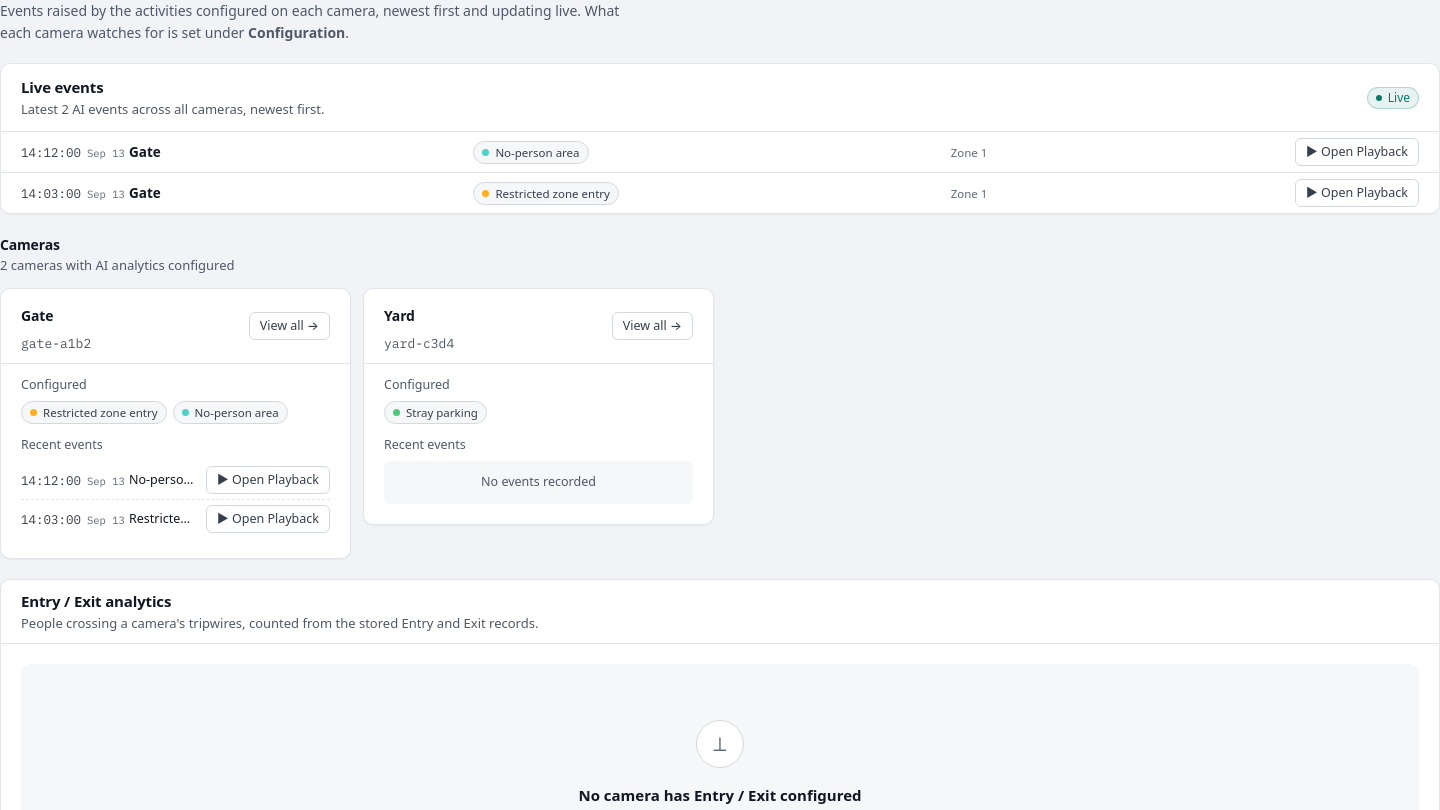
Scenario: EventsTab › refuses a range that ends before it starts without asking the API
This screenshot has width=1440, height=810.
Click the button "View all →" next to "gate-a1b2" at (289, 326), box [249,312,330,340]
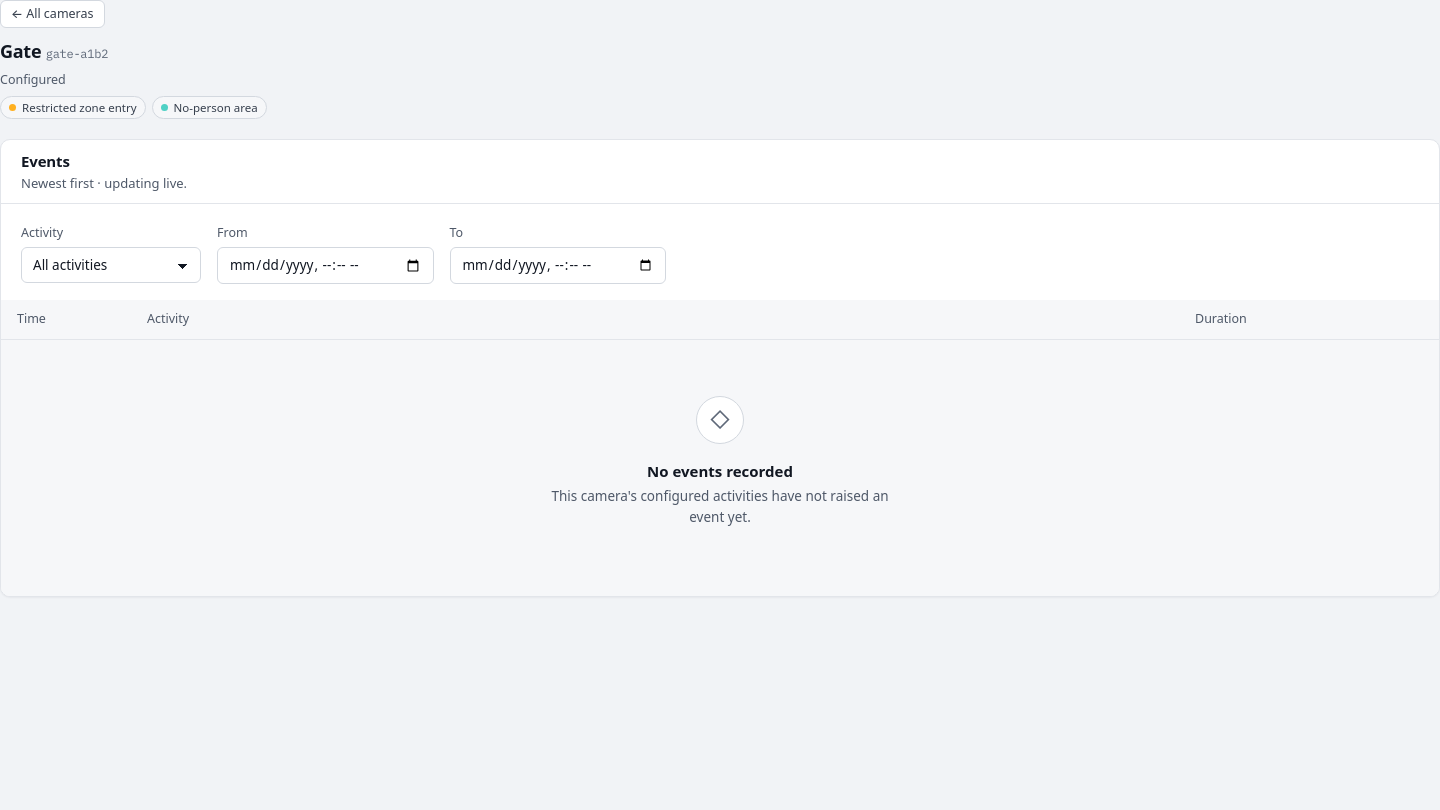
Expected: the heading "No events recorded" is shown, [647,460,793,482]
Type "2026-09-13T08:00" into the field named "To" at (558, 266), box [450,247,666,284]
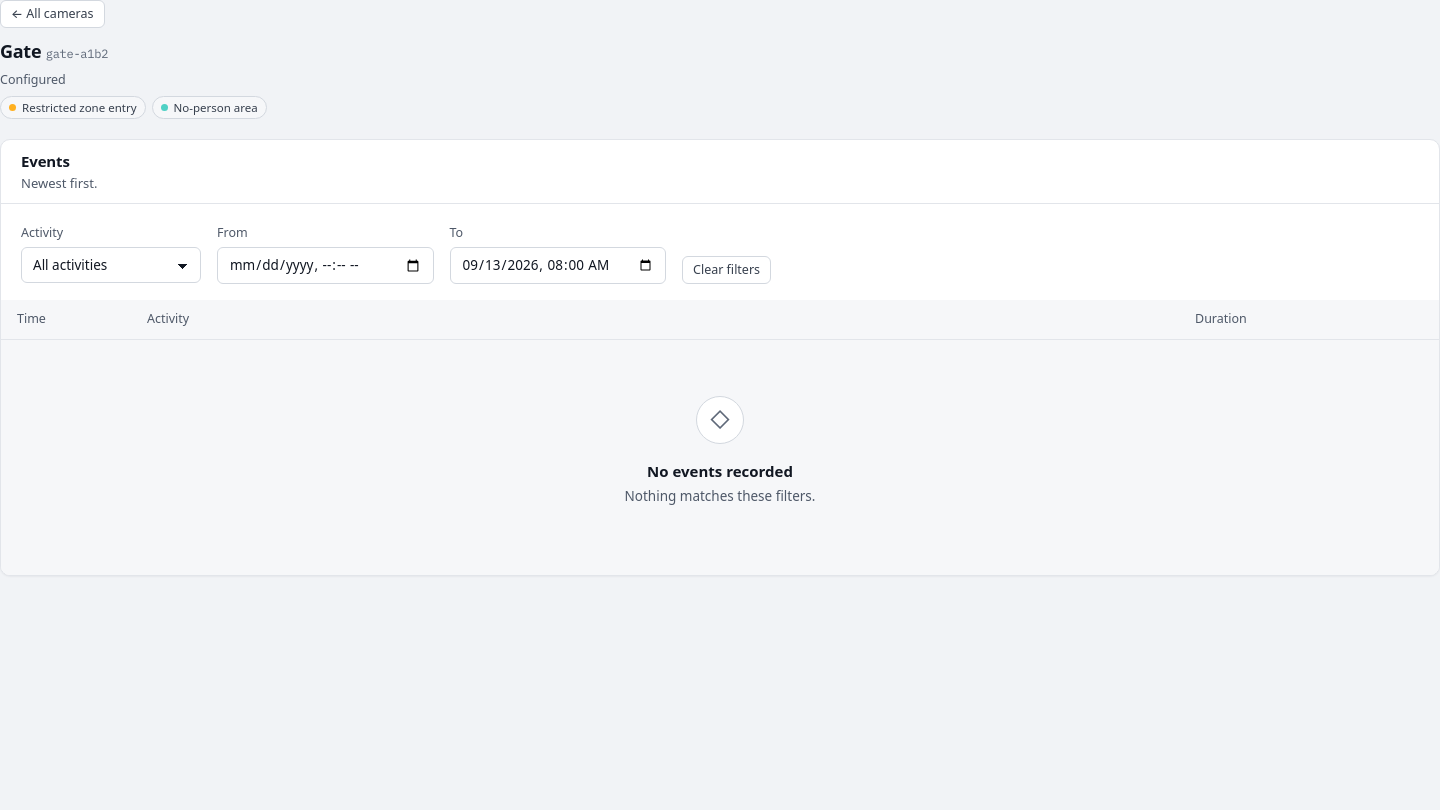
Type "2026-09-13T09:00" into the field named "From" at (325, 266), box [217,247,434,284]
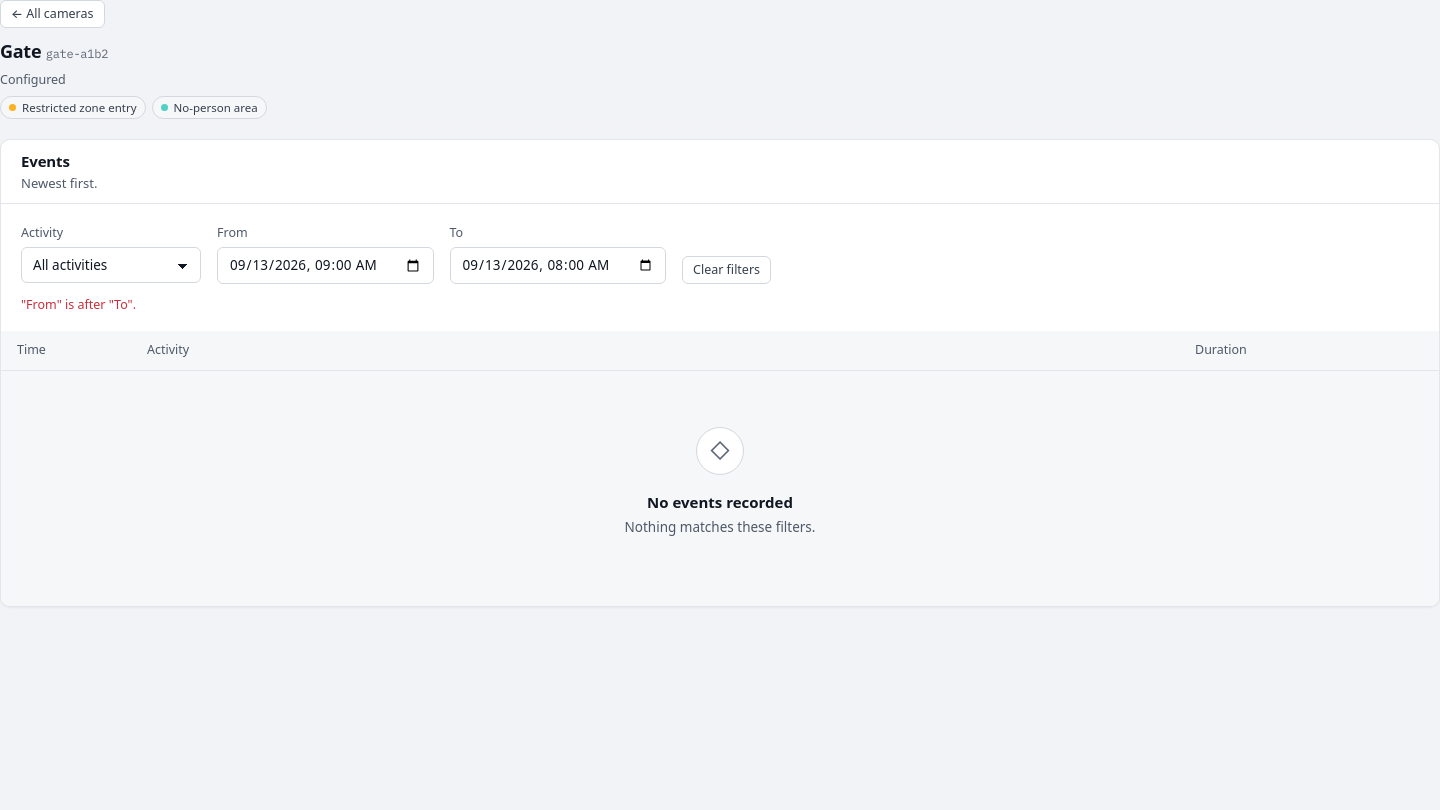
Expected: the message reads "\"From\" is after \"To\".", [21,296,136,313]
